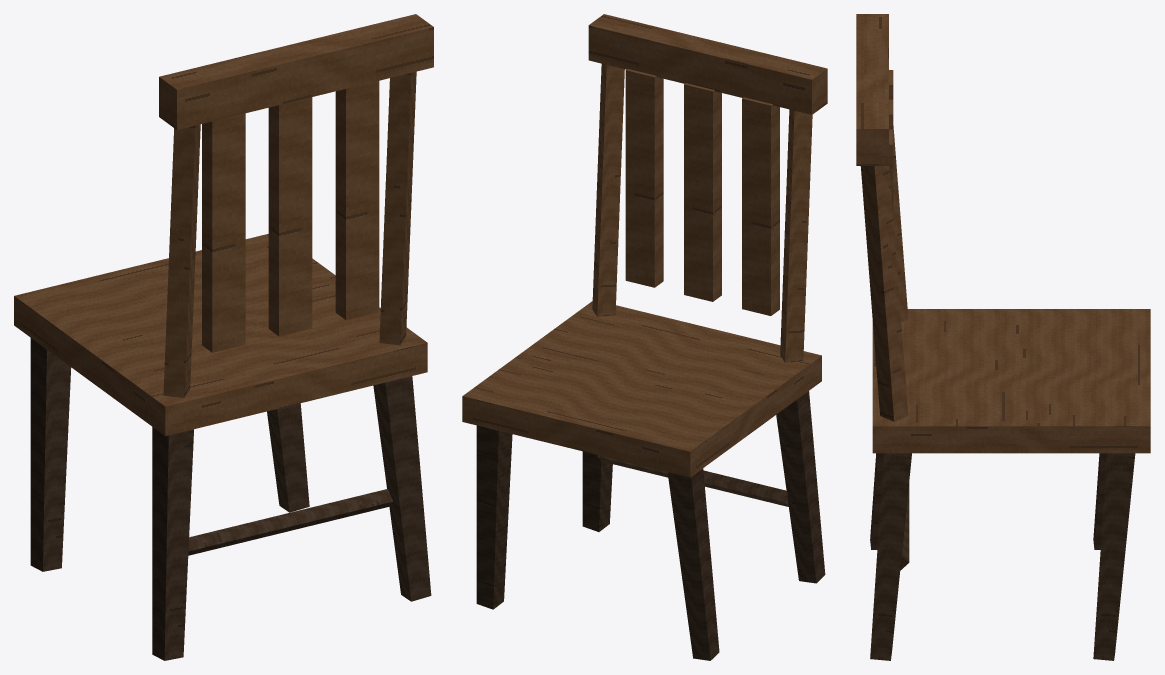
The model's file is chair.glb.
3 views of the same model, side by side, from view 1: azimuth 30°, elevation 25°; view 2: azimuth 150°, elevation 25°; view 3: azimuth 270°, elevation 25° (orthographic). The views are drawn at different scales.
Parts seen in each view (by area): view 1: C_static_ChairSeat, C_static_ChairTopRail, C_static_BackSlat.002, C_static_BackSlat.001, C_static_BackSlat, C_static_ChairLeg, C_static_ChairLeg.001, C_static_ChairLeg.002, C_static_BackUpright, C_static_BackUpright.001, C_static_ChairStretcher, C_static_ChairLeg.003; view 2: C_static_ChairSeat, C_static_ChairTopRail, C_static_BackSlat.002, C_static_BackSlat, C_static_BackSlat.001, C_static_BackUpright.001, C_static_BackUpright, C_static_ChairLeg.001, C_static_ChairLeg.003, C_static_ChairLeg, C_static_ChairLeg.002, C_static_ChairStretcher; view 3: C_static_ChairSeat, C_static_BackUpright.001, C_static_ChairLeg.002, C_static_ChairLeg.003, C_static_ChairTopRail, C_static_BackUpright, C_static_ChairLeg, C_static_ChairLeg.001, C_static_ChairStretcher.
Boxes of the visible parts, x1=… form: C_static_ChairSeat: x1=14, y1=234, x2=427, y2=436; C_static_ChairTopRail: x1=159, y1=14, x2=433, y2=129; C_static_BackSlat.002: x1=335, y1=81, x2=379, y2=319; C_static_BackSlat.001: x1=268, y1=97, x2=312, y2=336; C_static_BackSlat: x1=202, y1=113, x2=245, y2=352; C_static_ChairLeg: x1=152, y1=427, x2=193, y2=660; C_static_ChairLeg.001: x1=30, y1=338, x2=71, y2=571; C_static_ChairLeg.002: x1=373, y1=376, x2=431, y2=601; C_static_BackUpright: x1=163, y1=124, x2=200, y2=397; C_static_BackUpright.001: x1=379, y1=71, x2=416, y2=345; C_static_ChairStretcher: x1=188, y1=489, x2=392, y2=555; C_static_ChairLeg.003: x1=267, y1=403, x2=309, y2=512; C_static_ChairSeat: x1=462, y1=301, x2=821, y2=477; C_static_ChairTopRail: x1=588, y1=14, x2=827, y2=114; C_static_BackSlat.002: x1=625, y1=69, x2=663, y2=287; C_static_BackSlat: x1=742, y1=97, x2=779, y2=315; C_static_BackSlat.001: x1=684, y1=83, x2=721, y2=301; C_static_BackUpright.001: x1=592, y1=63, x2=624, y2=316; C_static_BackUpright: x1=780, y1=109, x2=812, y2=362; C_static_ChairLeg.001: x1=667, y1=468, x2=719, y2=660; C_static_ChairLeg.003: x1=476, y1=425, x2=512, y2=609; C_static_ChairLeg: x1=776, y1=391, x2=825, y2=583; C_static_ChairLeg.002: x1=582, y1=451, x2=612, y2=531; C_static_ChairStretcher: x1=597, y1=455, x2=788, y2=506; C_static_ChairSeat: x1=872, y1=309, x2=1150, y2=453; C_static_BackUpright.001: x1=860, y1=166, x2=908, y2=421; C_static_ChairLeg.002: x1=870, y1=453, x2=911, y2=660; C_static_ChairLeg.003: x1=1093, y1=453, x2=1135, y2=660; C_static_ChairTopRail: x1=856, y1=14, x2=888, y2=165; C_static_BackUpright: x1=893, y1=126, x2=908, y2=321; C_static_ChairLeg: x1=870, y1=453, x2=883, y2=549; C_static_ChairLeg.001: x1=1093, y1=453, x2=1106, y2=549; C_static_ChairStretcher: x1=900, y1=483, x2=909, y2=570.
Bounding box in the file's own units: 0.5231 × 1.08 × 0.54.
Materials: 2 (2 with a texture image).
